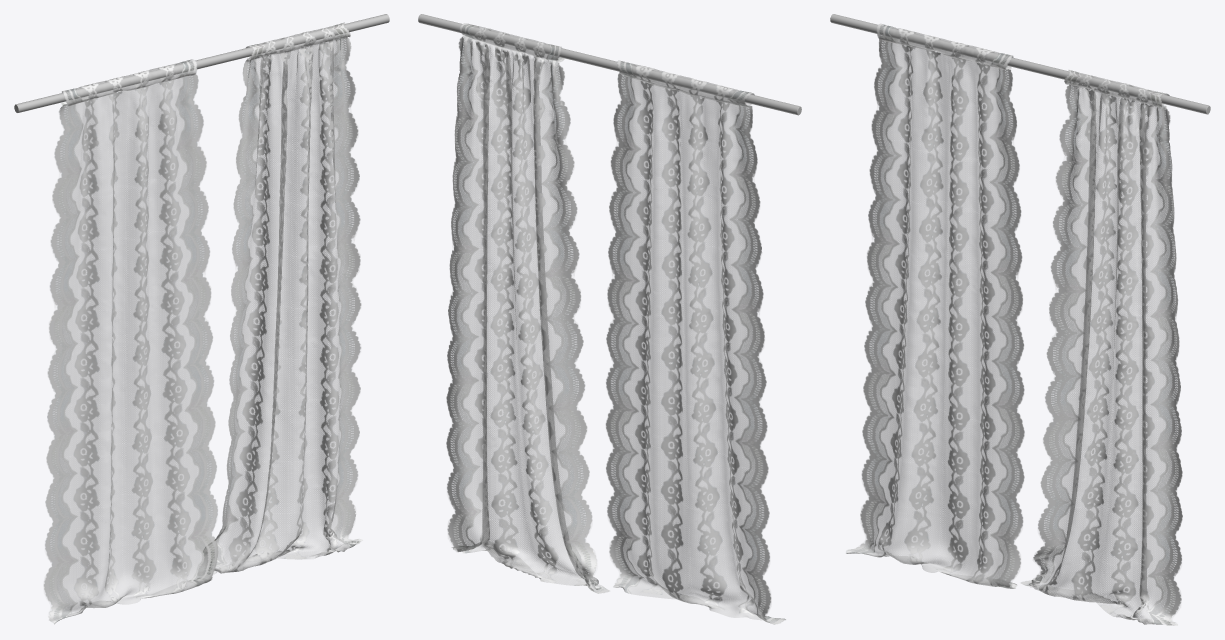
File: MEGA_PACK_Curtain__curtain-45658.glb
3 views of the same model, side by side, from view 1: azimuth 30°, elevation 25°; view 2: azimuth 150°, elevation 25°; view 3: azimuth 330°, elevation 25° (orthographic). The views are drawn at different scales.
Visible parts, largest first — view 1: curtain-45658; view 2: curtain-45658; view 3: curtain-45658.
Boxes of the visible parts, left/top/right/bottom form: curtain-45658: left=14, top=14, right=389, bottom=624; curtain-45658: left=418, top=14, right=801, bottom=624; curtain-45658: left=830, top=14, right=1210, bottom=625.
Bounding box in the file's own units: 1.89 × 2.52 × 0.1986.
Materials: 1 (1 with a texture image).
